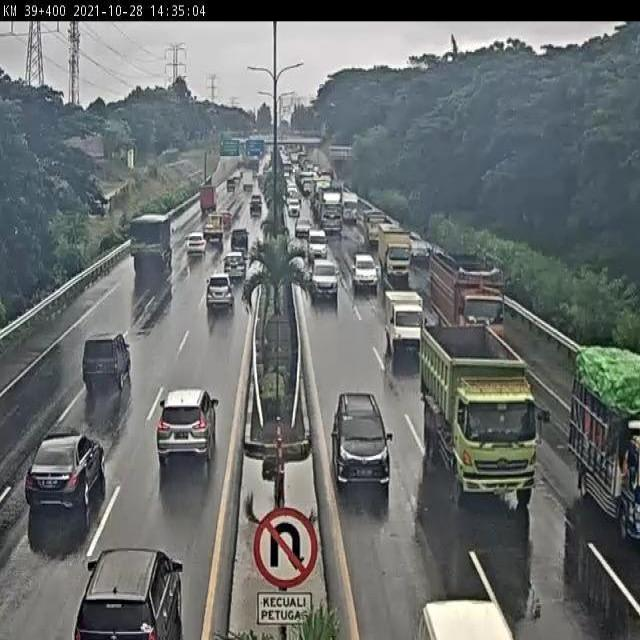big truck: (416, 318, 547, 526), (431, 253, 512, 343), (131, 209, 179, 279)
car: (79, 541, 185, 640), (22, 420, 108, 519), (331, 389, 390, 495), (153, 383, 219, 465), (421, 593, 519, 640), (75, 323, 133, 397), (382, 281, 425, 368), (303, 256, 342, 305), (202, 272, 241, 312), (351, 250, 381, 294), (222, 250, 249, 282), (409, 237, 433, 272), (303, 230, 338, 253), (231, 228, 256, 255), (186, 229, 207, 259)
small truck: (562, 340, 640, 537), (379, 227, 414, 288)
